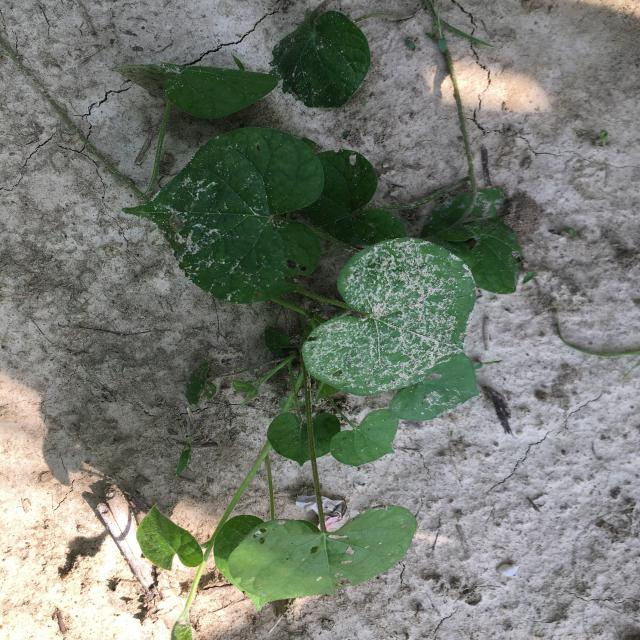MorningGlory: (113, 3, 526, 640)
